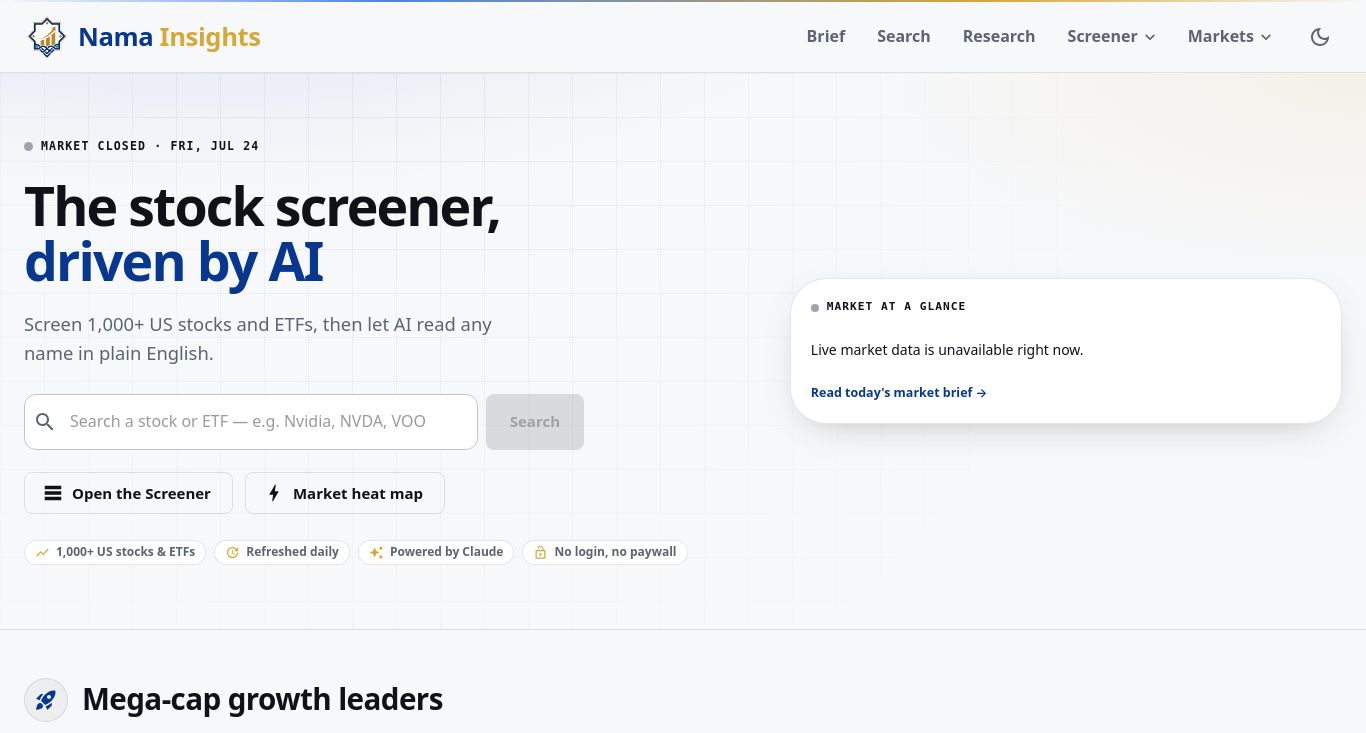
Test: App routing › renders the ETF screener page at /etf-screener
The width and height of the screenshot is (1366, 733).
Click the button "Screener".
click(1112, 37)  # box [1054,21,1170,53]
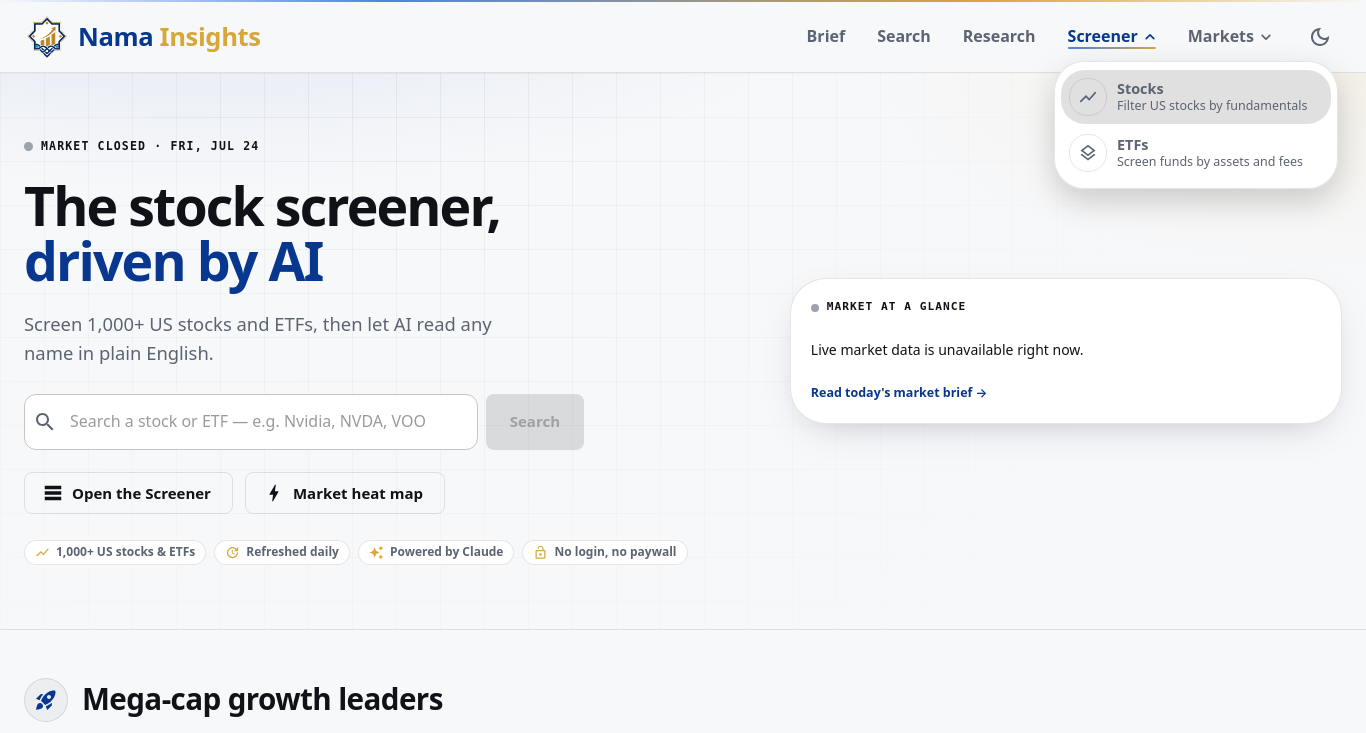
Click the menu item "ETFs Screen funds by assets and fees".
click(1196, 153)  # box [1061,126,1331,180]
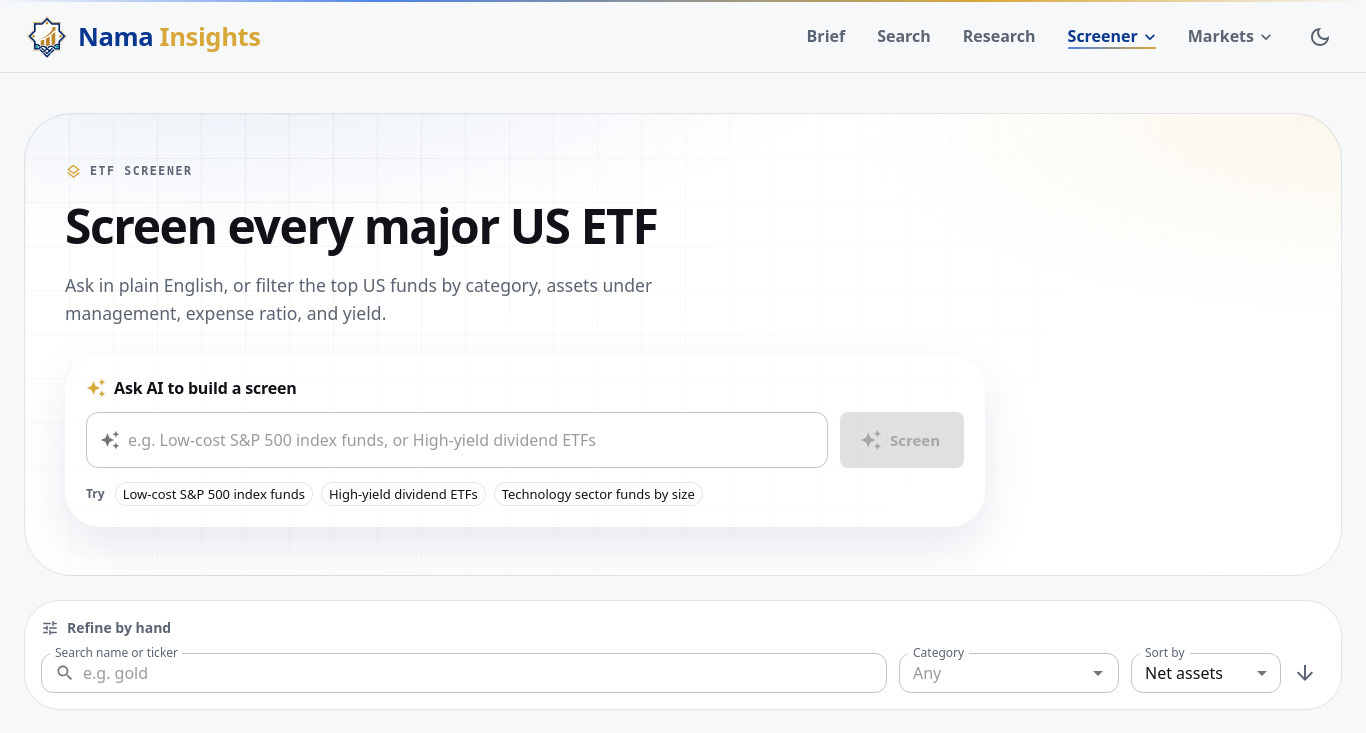
Expected: the heading "Screen every major US ETF" is shown, [65,193,657,258]
